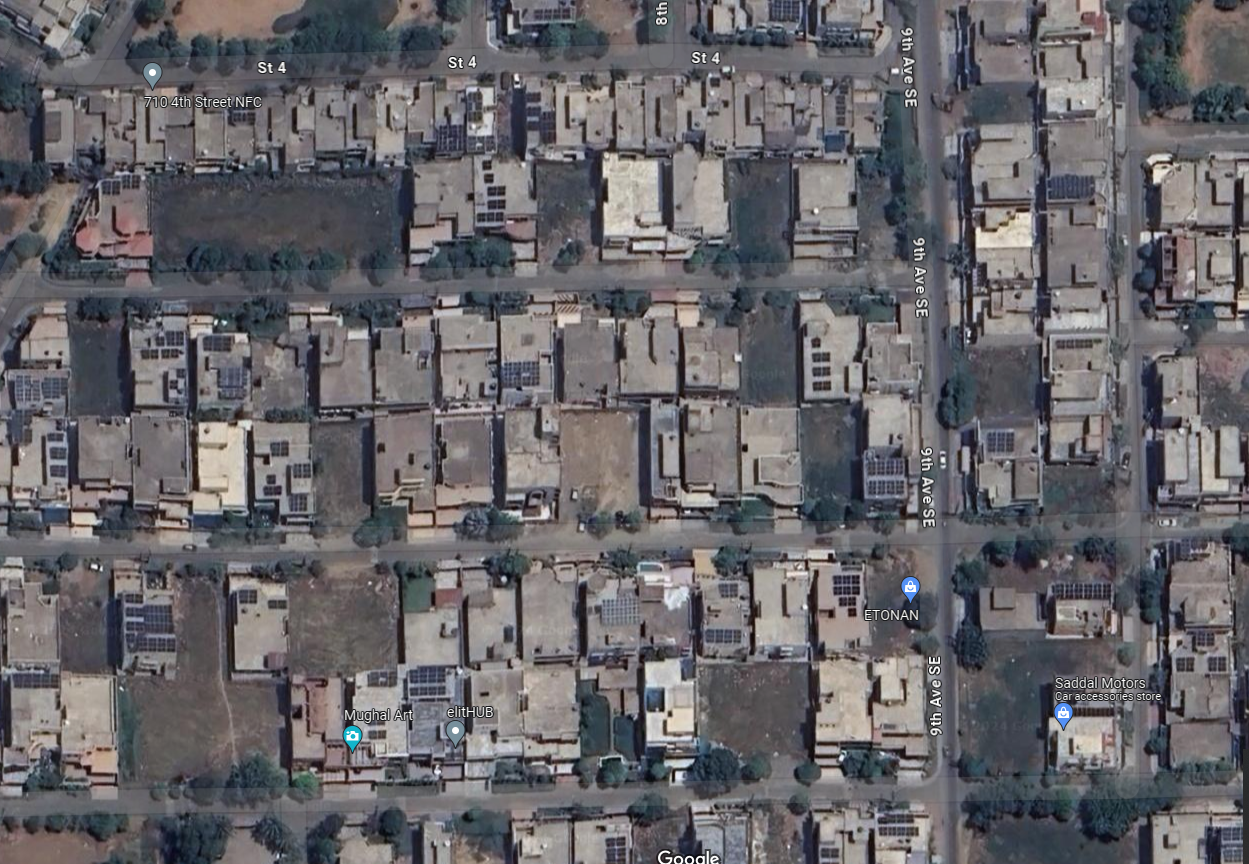solar-panel: (118, 587, 179, 651), (863, 455, 906, 493), (11, 375, 71, 402), (832, 574, 866, 614), (9, 668, 67, 691), (812, 338, 836, 393), (410, 666, 449, 699), (221, 369, 259, 401), (500, 359, 543, 387), (983, 431, 1029, 457), (1053, 581, 1114, 600), (1219, 825, 1248, 864), (48, 429, 71, 473), (1051, 174, 1097, 196), (12, 414, 38, 450), (222, 101, 259, 125), (434, 123, 461, 151), (468, 90, 493, 119), (1177, 540, 1205, 565), (536, 3, 575, 19), (708, 628, 744, 645), (152, 334, 184, 352), (101, 179, 143, 192), (261, 475, 282, 500), (776, 1, 800, 22), (1194, 627, 1219, 646), (609, 837, 627, 862), (879, 826, 919, 837), (470, 135, 494, 153), (1053, 341, 1101, 350), (834, 93, 845, 131), (237, 591, 260, 609), (543, 109, 555, 143), (210, 337, 236, 352), (289, 493, 309, 512), (721, 584, 742, 602), (288, 466, 314, 480), (364, 672, 392, 684), (1209, 655, 1228, 672), (172, 372, 186, 395), (881, 815, 915, 824), (478, 211, 505, 222), (477, 165, 493, 181), (368, 727, 391, 738), (1179, 657, 1198, 670), (482, 189, 506, 198), (268, 440, 284, 452), (526, 90, 542, 102), (527, 122, 542, 134), (369, 713, 385, 724), (487, 201, 508, 208), (269, 600, 284, 609), (822, 849, 841, 856), (526, 108, 541, 116)
